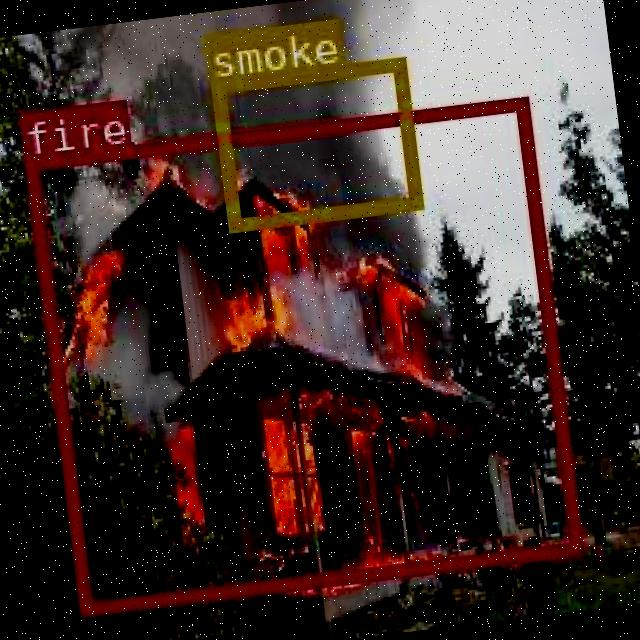fire: (22, 96, 579, 614)
smoke: (209, 55, 419, 229)
